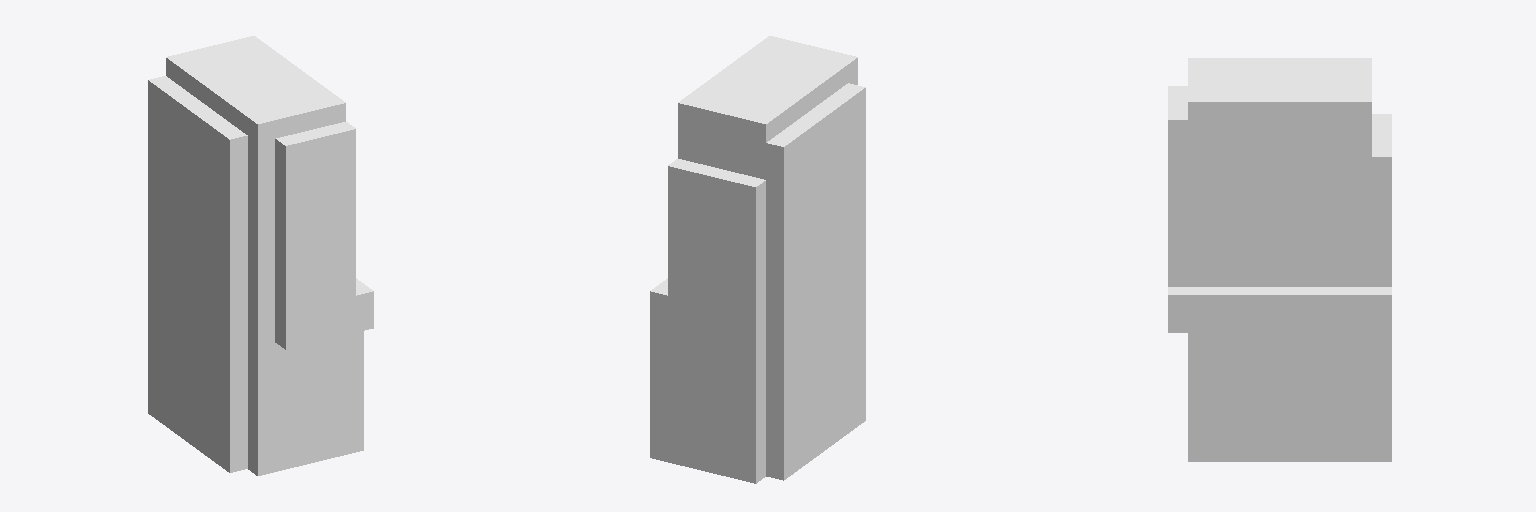
The model's file is Character-8-LarmUp.obj.
3 renders of one model, left to right at view 1: azimuth 30°, elevation 25°; view 2: azimuth 150°, elevation 25°; view 3: azimuth 270°, elevation 25°, orthographic.
Parts seen in each view (by area): view 1: LarmUp; view 2: LarmUp; view 3: LarmUp.
Part boxes in pixels (left/top/right/bottom): LarmUp: left=148, top=36, right=373, bottom=475; LarmUp: left=650, top=36, right=865, bottom=483; LarmUp: left=1168, top=58, right=1391, bottom=461.
Bounding box in the file's own units: 0.7 × 1.9 × 1.1.